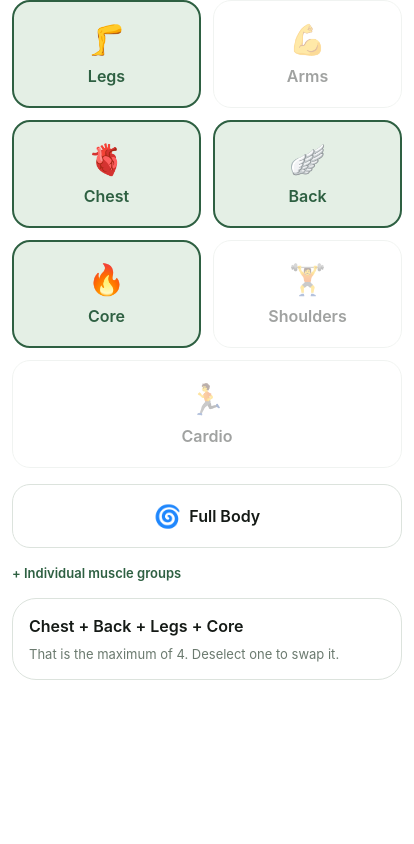
Scenario: WorkoutTypePicker › still allows swapping one out at the cap
This screenshot has width=414, height=844.
What coordinates should you click on to do the following:
click the checkbox labelled "Core"
I would click on:
 (106, 294)
Its box is 12,240 -> 201,348.
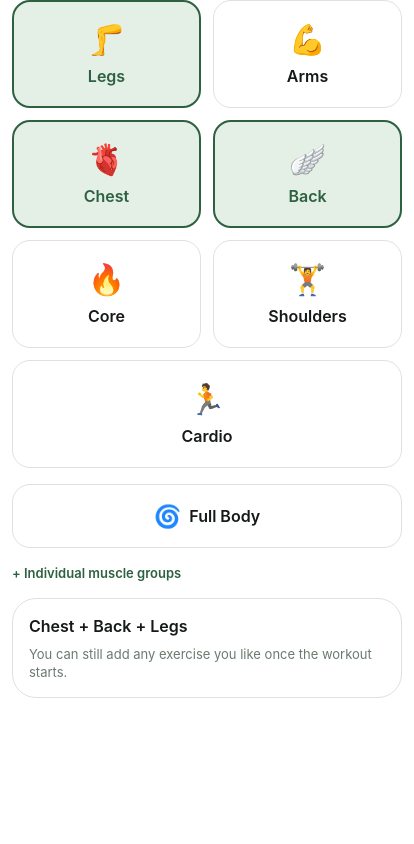
expect the checkbox labelled "Shoulders" is enabled: met, box 213,240 -> 402,348
